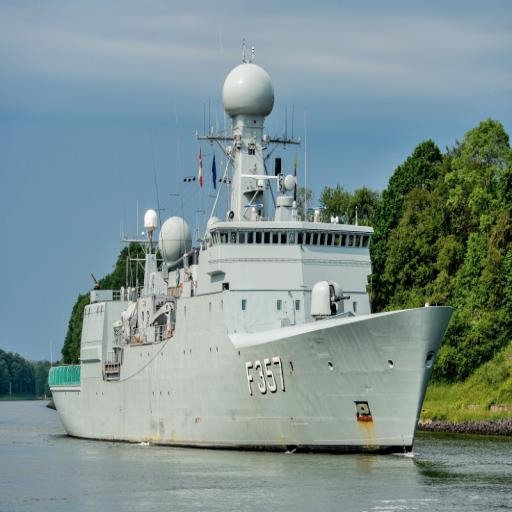Fragata: (47, 41, 458, 460)
